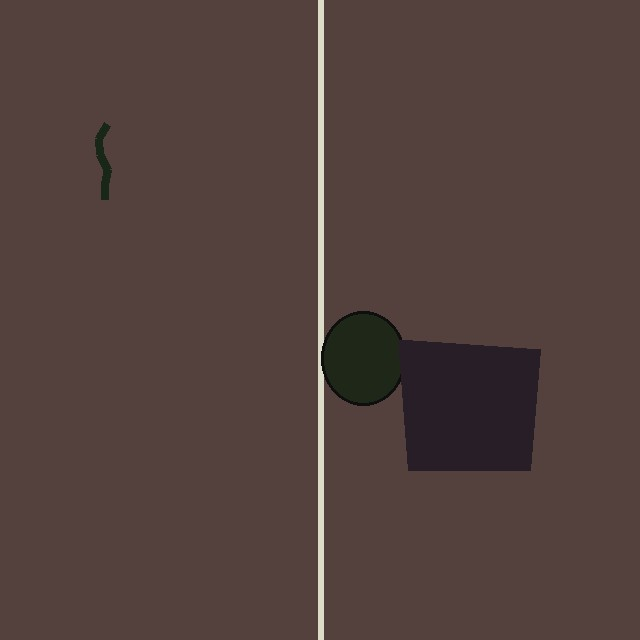damaged_surface: (398, 339, 540, 470)
longitudinal_crack: (102, 124, 194, 199)
pothole: (321, 311, 405, 405)
